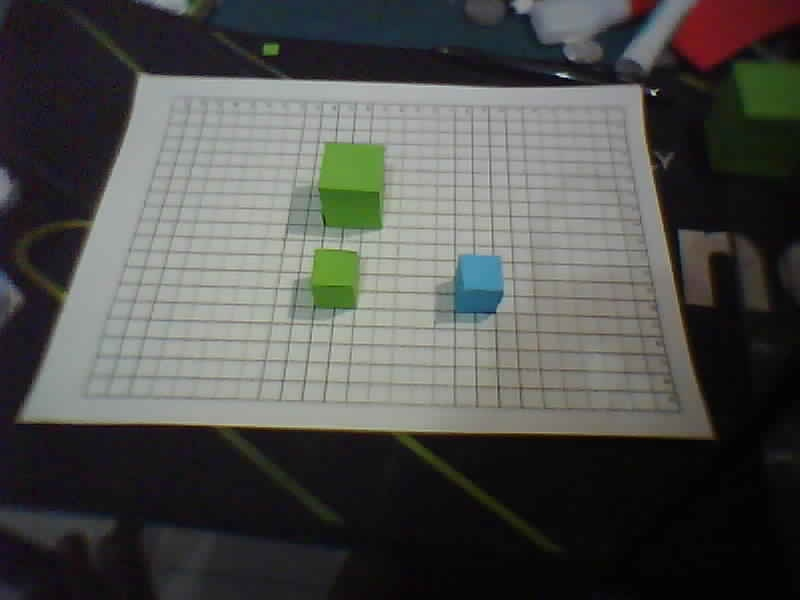LB: (80, 393, 88, 399)
LT: (169, 95, 177, 101)
RB: (675, 409, 683, 415)
RT: (621, 105, 629, 111)
